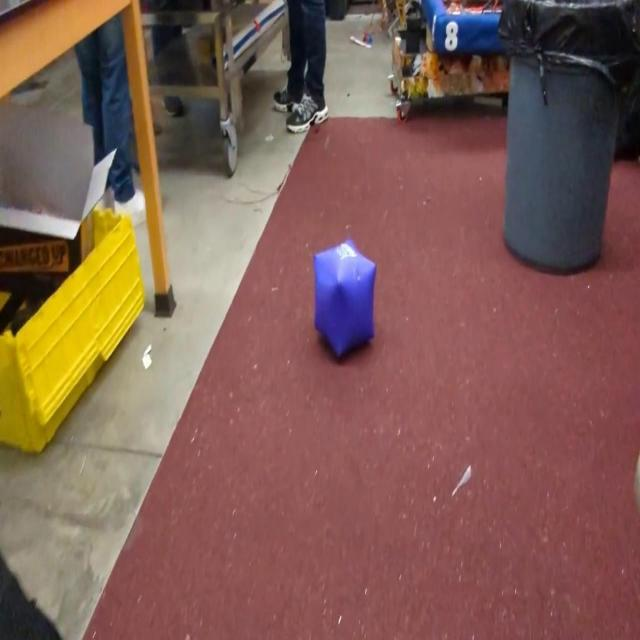frc_cube: (312, 242, 379, 359)
